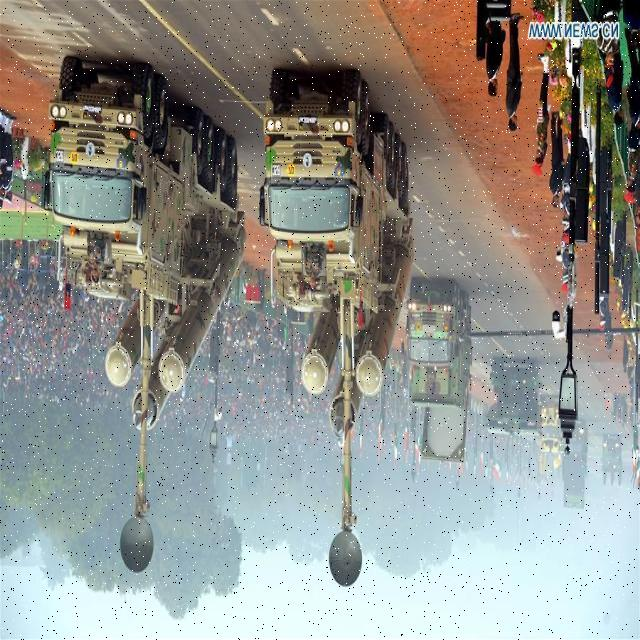MIL_MBT: (485, 349, 546, 438)
